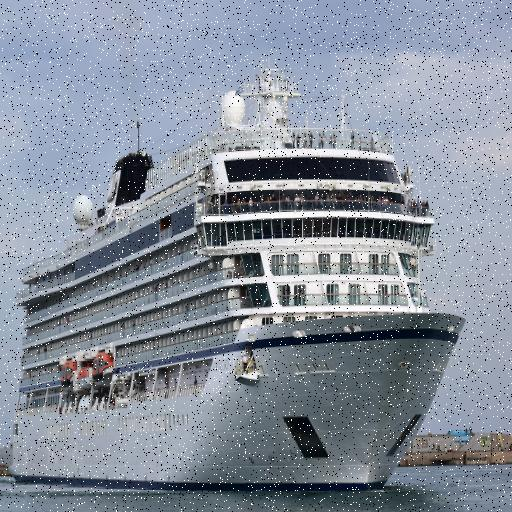cruises: (4, 62, 469, 502)
